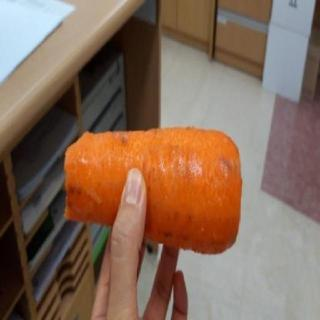carrot: (60, 117, 244, 260)
